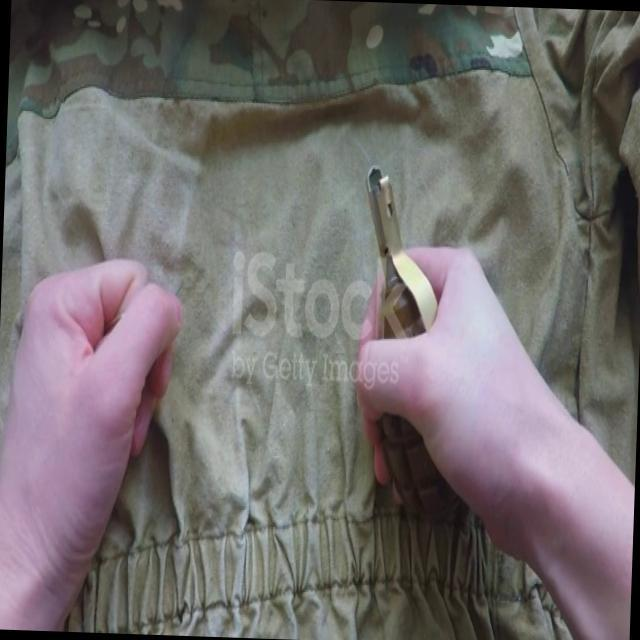grenade: (349, 164, 473, 526)
